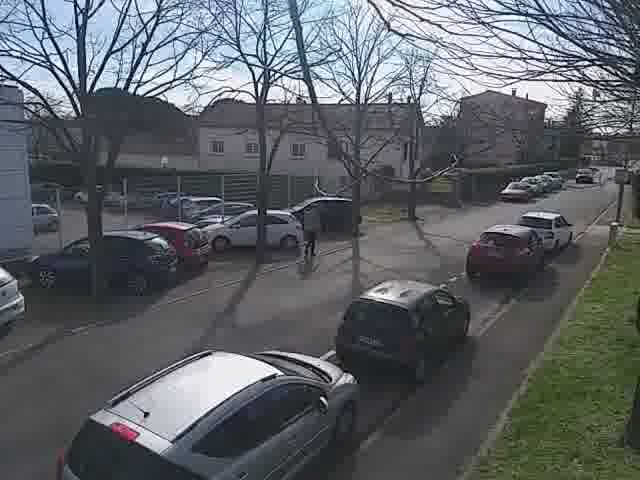persona: (293, 194, 326, 261)
